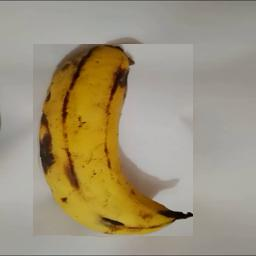Banana Semifresh: (33, 45, 193, 237)
